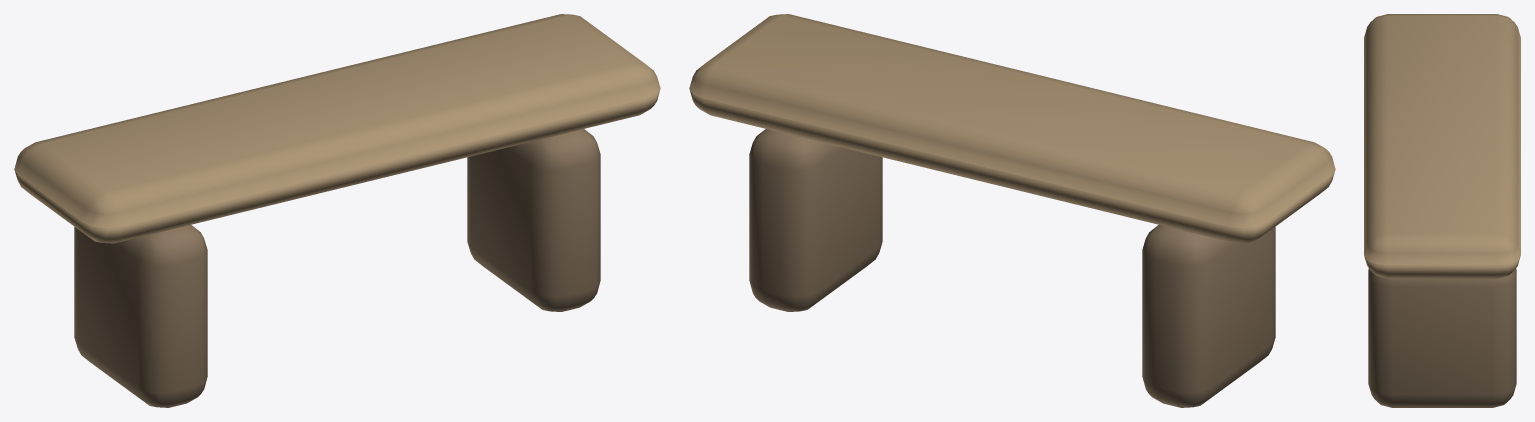
File: SM_Bench.fbx
3 views of the same model, side by side, from view 1: azimuth 30°, elevation 25°; view 2: azimuth 150°, elevation 25°; view 3: azimuth 270°, elevation 25° (orthographic). The views are drawn at different scales.
Parts seen in each view (by area): view 1: SM_Bench; view 2: SM_Bench; view 3: SM_Bench.
Boxes of the visible parts, x1,y1,x2,y2 form: SM_Bench: (14,14,660,407); SM_Bench: (689,14,1335,407); SM_Bench: (1364,14,1520,407).
Size of the model in its own units: 190 by 53 by 73.
